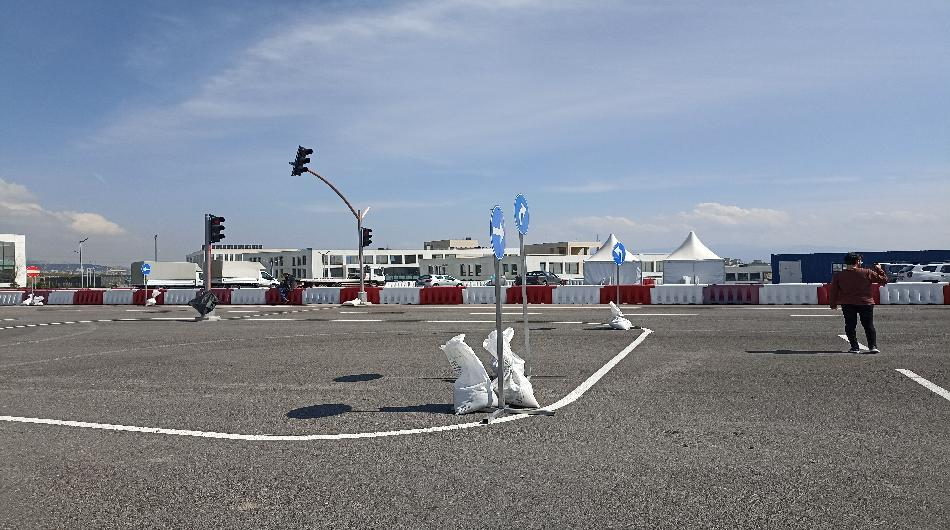saga_mecburi_1: (489, 206, 509, 261)
saga_mecburi_2: (511, 191, 536, 239)
sola_mecburi_2: (613, 239, 631, 266)
